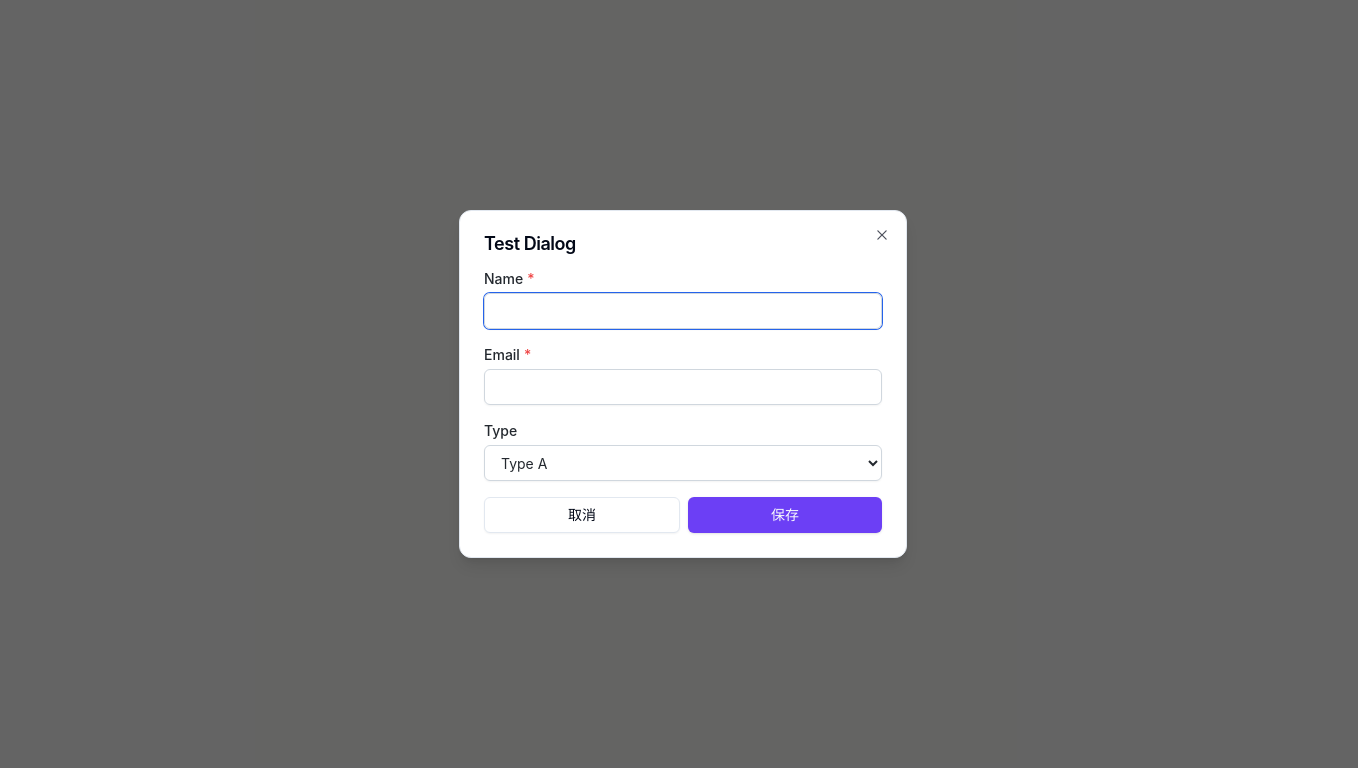
Test: FormDialog › should display error message when submission fails
The image size is (1366, 768).
Note: Fill in required fields first
Type "Test" into the field labelled "Name*" at [683, 311], box [484,293,882,329]
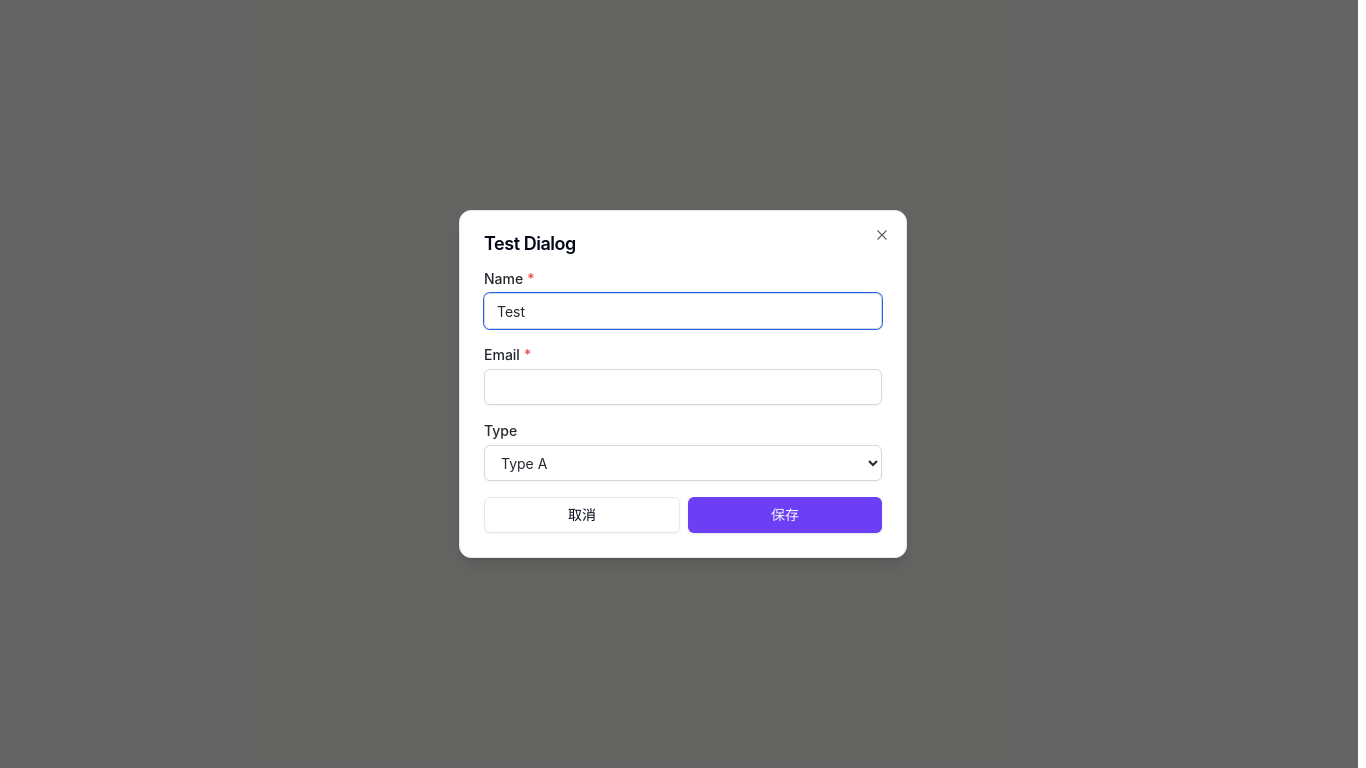
Type "test@example.com" into the field labelled "Email*" at [683, 387], box [484,369,882,405]
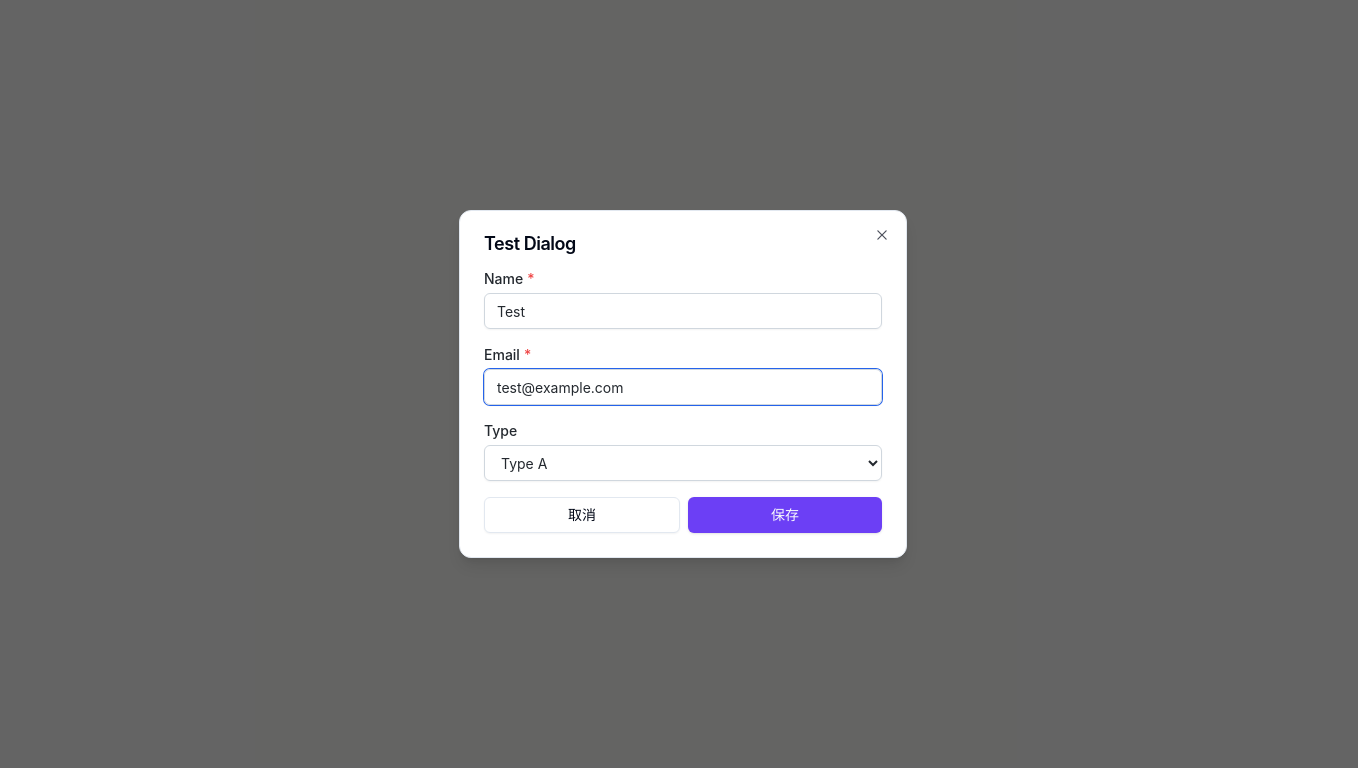
Note: Click submit
Click the button "保存" at [785, 515], box [688,497,882,533]
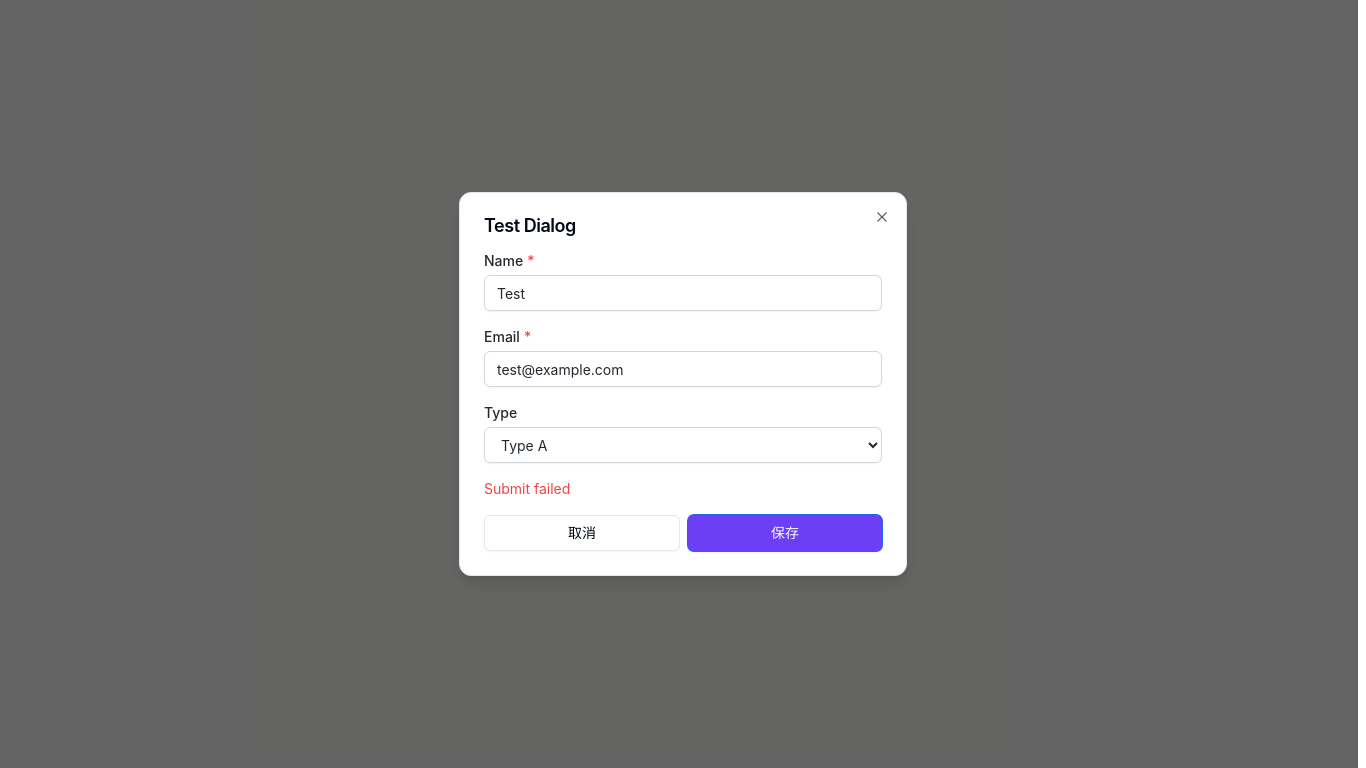
Expected: the text "Submit failed" is shown, [484,480,570,497]
